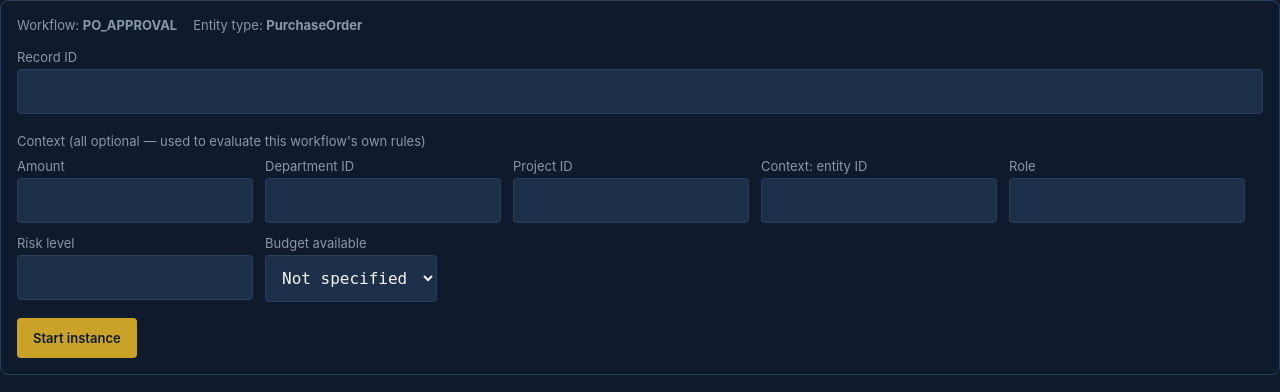
Test: StartInstanceForm — submit › shows the action-returned error message on failure
In the field labelled "Record ID": (640, 92) [17, 69, 1263, 114], type "po-123"
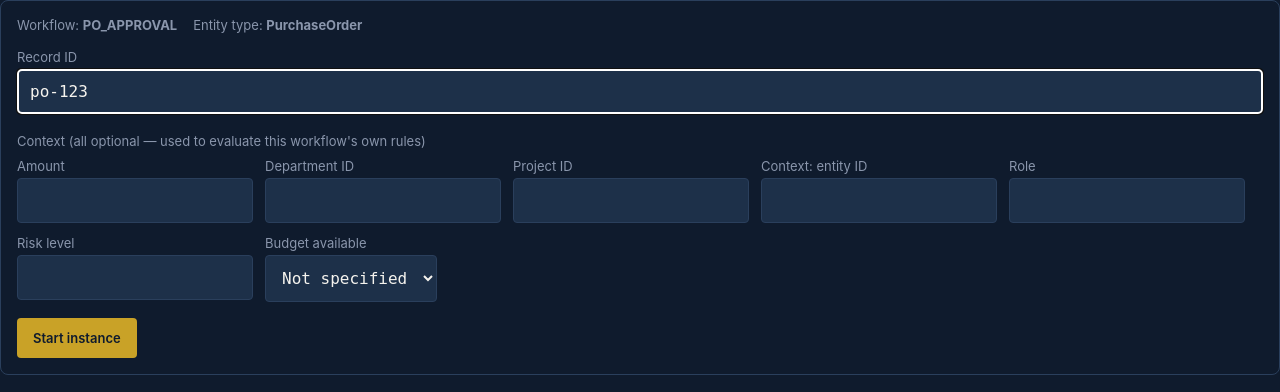
Click the button "Start instance": (77, 338) [17, 318, 137, 358]
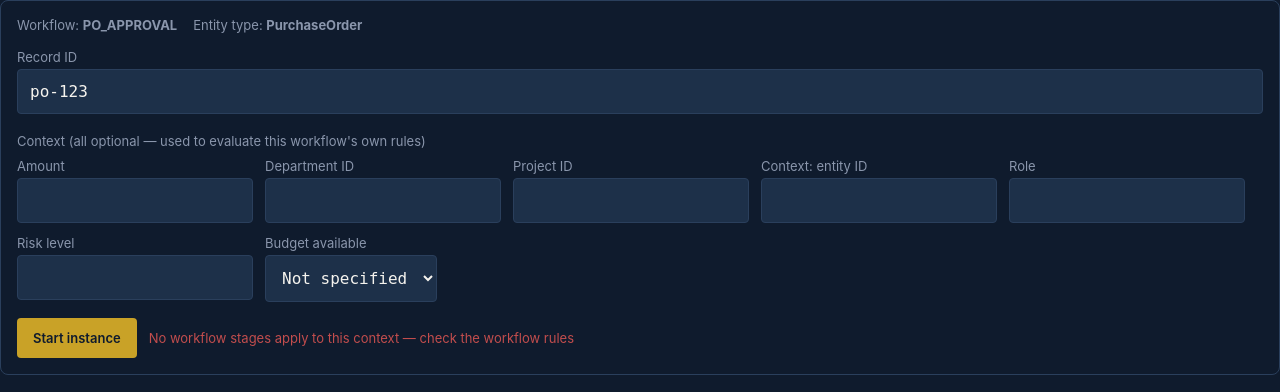
Result: the text "No workflow stages apply to this context — check the workflow rules" is shown at [149, 330, 574, 346]
